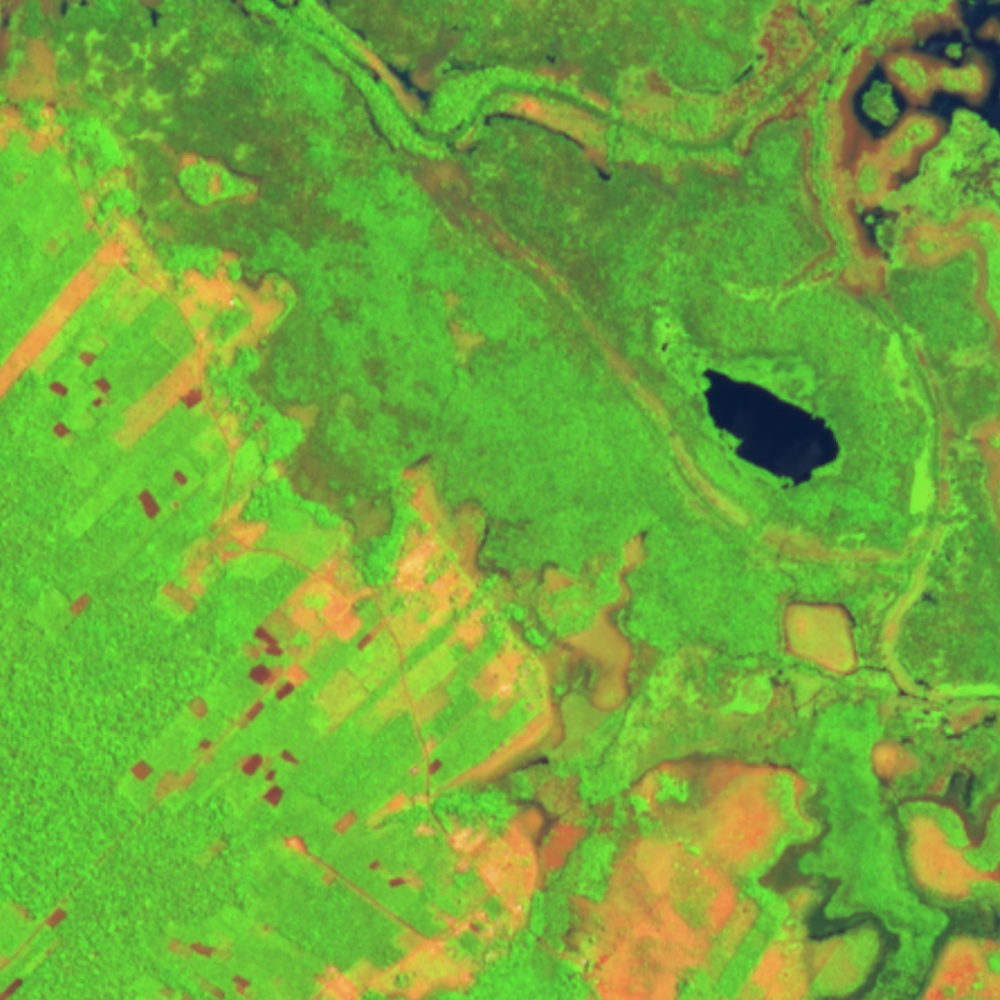legal: (387, 458, 654, 800), (766, 3, 1000, 344), (565, 755, 819, 1000), (286, 808, 561, 1000), (429, 65, 770, 185), (861, 741, 1000, 901), (245, 555, 379, 720), (1, 245, 115, 407), (179, 248, 300, 337), (111, 359, 214, 454), (164, 521, 252, 616), (775, 597, 869, 681), (360, 33, 442, 118), (48, 348, 116, 446), (159, 936, 253, 1000), (25, 585, 97, 637), (242, 748, 301, 811), (1, 107, 71, 155), (129, 759, 202, 802), (130, 484, 169, 521), (188, 693, 214, 747), (170, 467, 207, 492), (42, 907, 69, 932), (1, 973, 25, 996), (11, 894, 29, 920)
